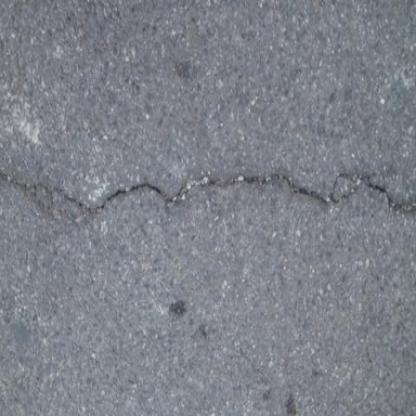Cracks: (1, 158, 415, 227)
